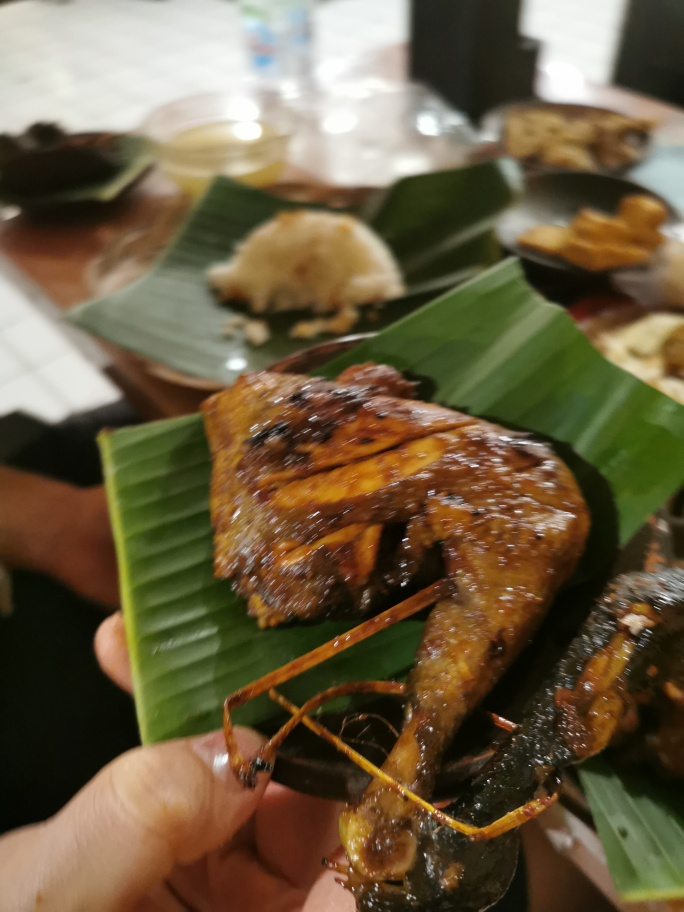ayam bakar: (195, 365, 684, 904)
